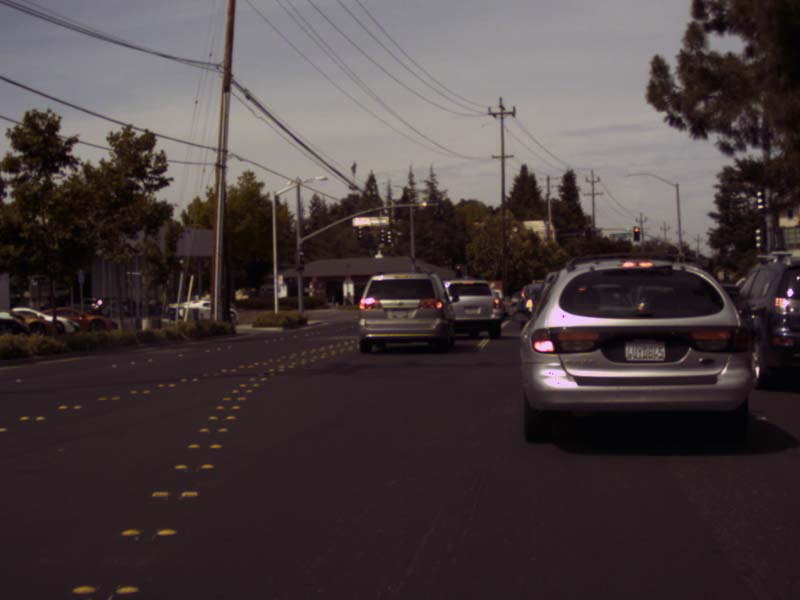Red: (633, 226, 639, 241), (456, 265, 461, 276)
